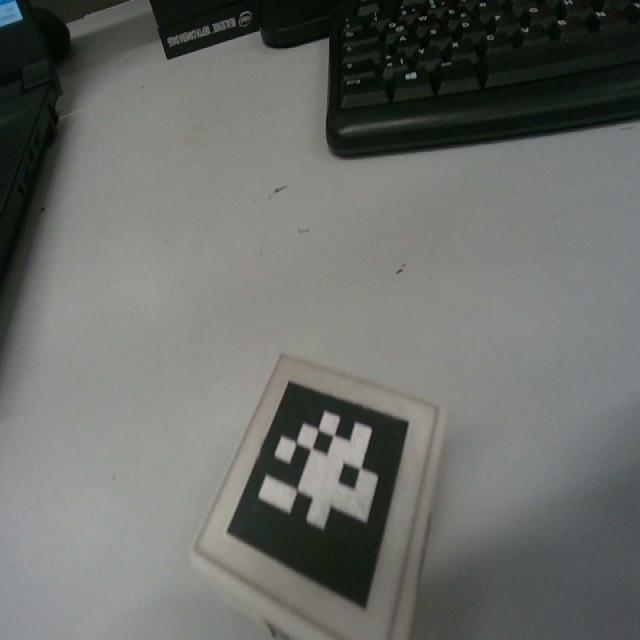Cube: (189, 351, 446, 638)
